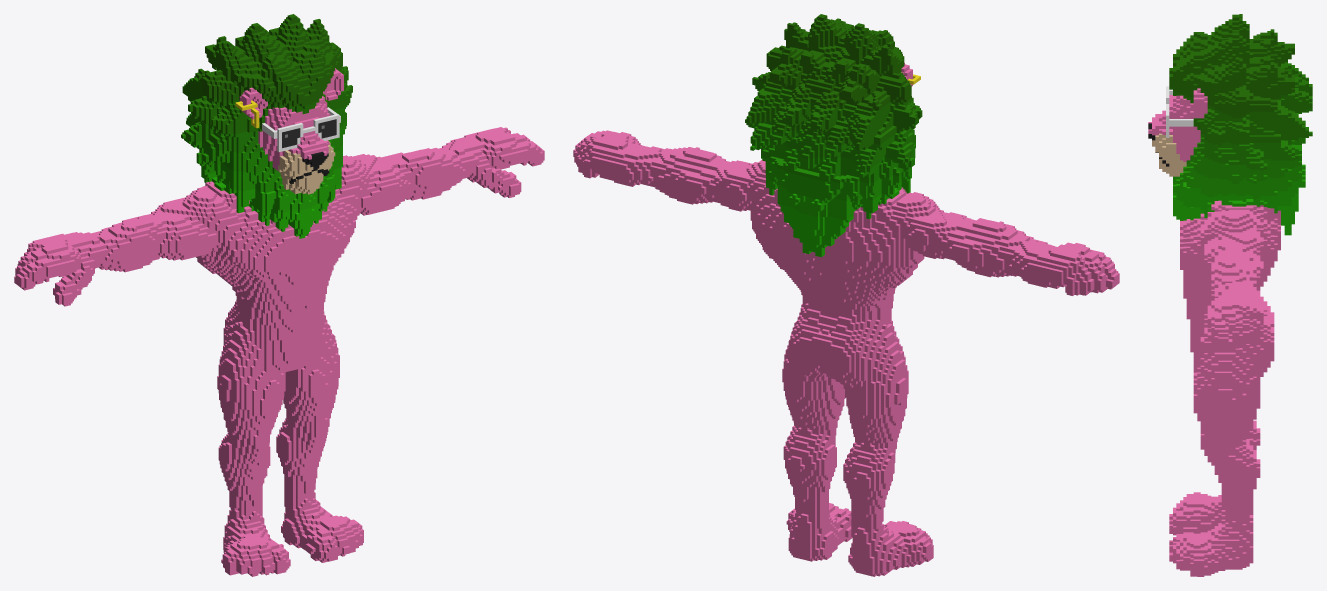
File: 350-Cfloi1HS.glb
3 views of the same model, side by side, from view 1: azimuth 30°, elevation 25°; view 2: azimuth 150°, elevation 25°; view 3: azimuth 270°, elevation 25° (orthographic). The views are drawn at different scales.
Visible parts, largest first — view 1: sad; view 2: sad; view 3: sad.
Boxes of the visible parts, x1,y1,x2,y2 form: sad: [14, 14, 544, 576]; sad: [573, 14, 1119, 576]; sad: [1148, 14, 1312, 576].
Size of the model in its own units: 17.2 by 16.5 by 4.7.
5 materials, 5 textured.
